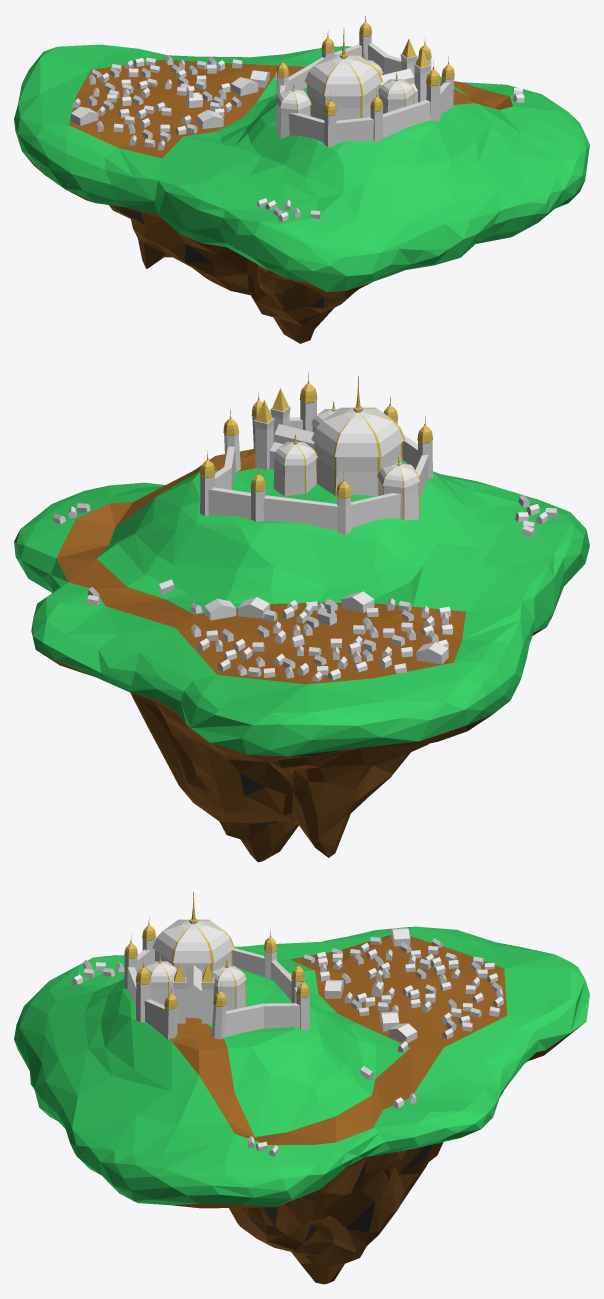
File: CitadelModel.fbx
3 views of the same model, one above another, from view 1: azimuth 30°, elevation 25°; view 2: azimuth 150°, elevation 25°; view 3: azimuth 270°, elevation 25° (orthographic). The views are drawn at different scales.
Parts seen in each view (by area): view 1: IslandCitadelDecimate, Buildings; view 2: IslandCitadelDecimate, Buildings; view 3: IslandCitadelDecimate, Buildings.
Part boxes in pixels (bbox=[...]): IslandCitadelDecimate: bbox=[14, 44, 589, 343]; Buildings: bbox=[70, 16, 524, 221]; IslandCitadelDecimate: bbox=[14, 449, 589, 862]; Buildings: bbox=[53, 372, 557, 681]; IslandCitadelDecimate: bbox=[14, 926, 589, 1284]; Buildings: bbox=[72, 891, 503, 1156].
Size of the model in its own units: 824 by 629 by 857.
